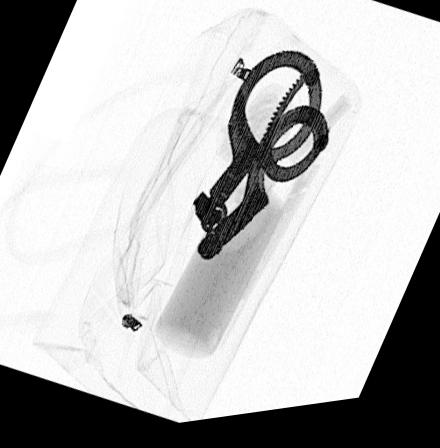HandCuffs: (191, 58, 331, 266)
